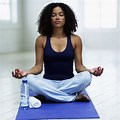person: (39, 3, 74, 36)
